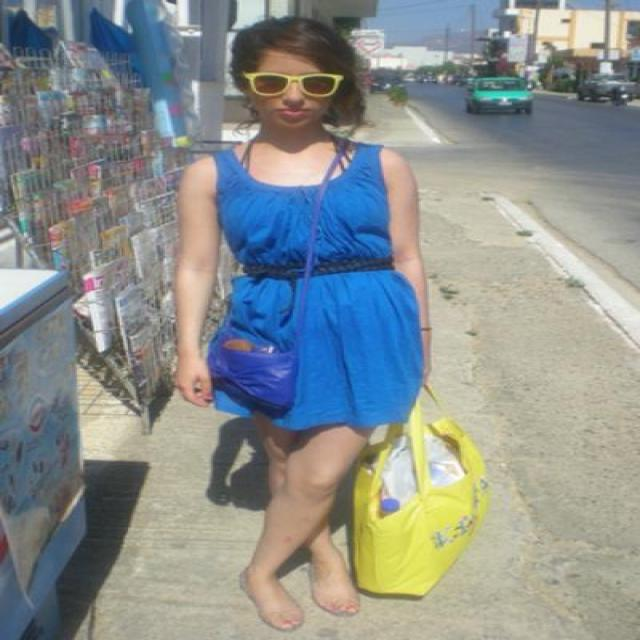bag: (206, 334, 486, 594)
dress: (210, 144, 422, 429)
shoe: (314, 584, 360, 614)
sunglass: (234, 68, 286, 102)
